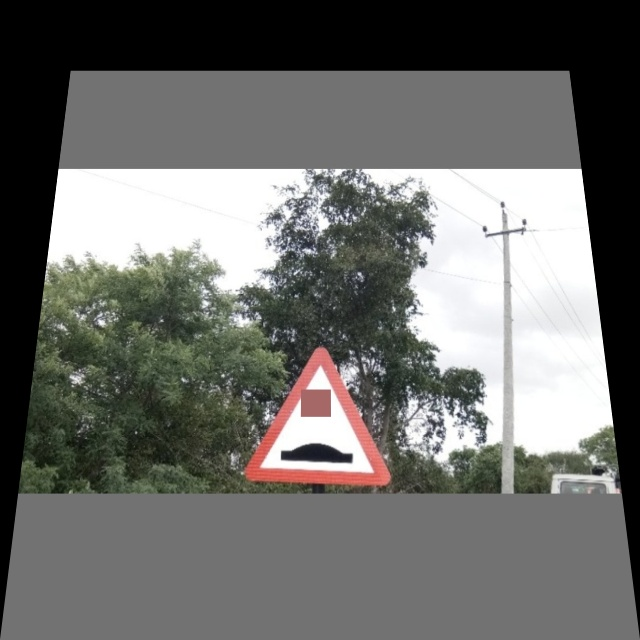Dangerous_Dip: (246, 345, 377, 474)
